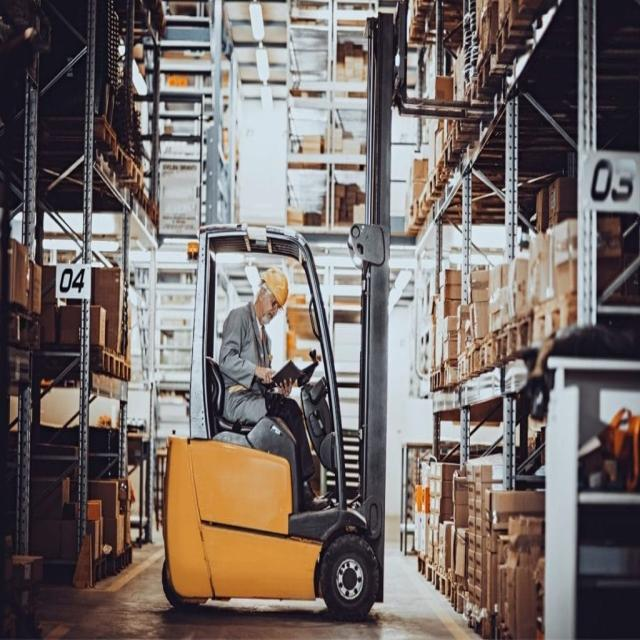Person: (218, 268, 330, 511)
